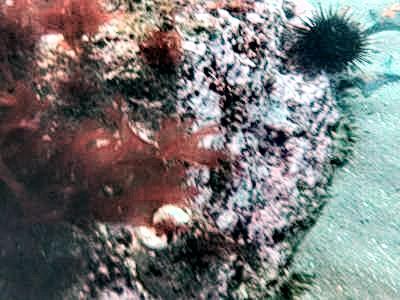urchin: (290, 8, 361, 70)
